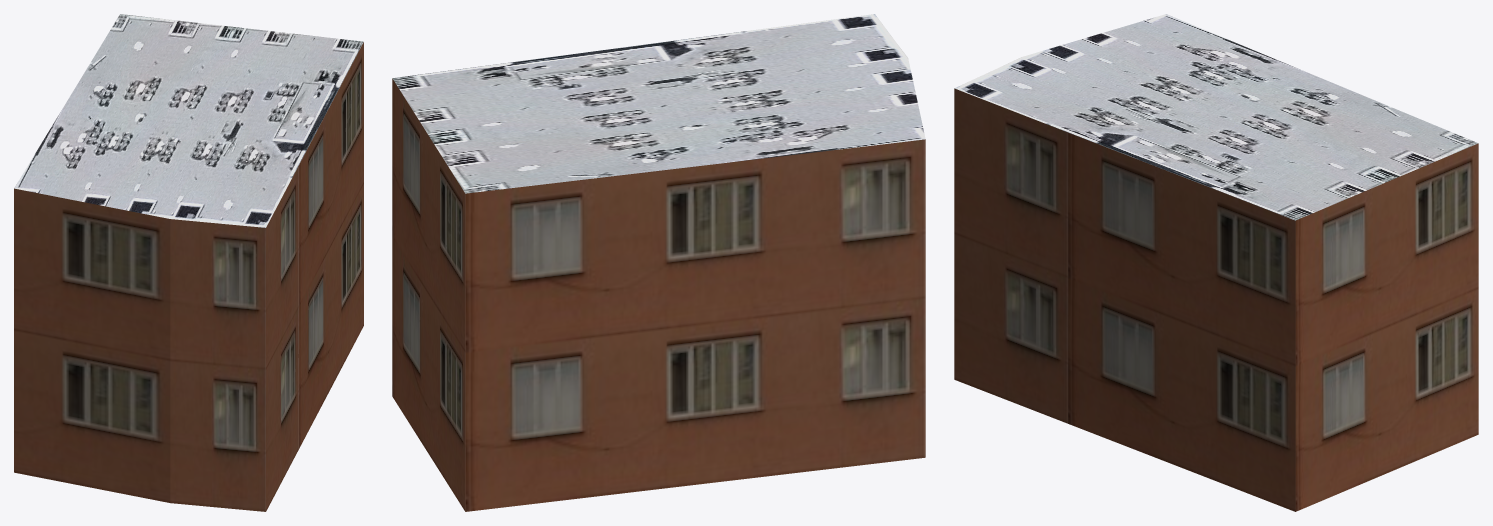
Rendered from ResTex__3351.fbx.
3 views of the same model, side by side, from view 1: azimuth 30°, elevation 25°; view 2: azimuth 150°, elevation 25°; view 3: azimuth 270°, elevation 25° (orthographic). The views are drawn at different scales.
Parts seen in each view (by area): view 1: CityEngineMaterial_20_m, CityEngineMaterial_4_m; view 2: CityEngineMaterial_20_m, CityEngineMaterial_4_m; view 3: CityEngineMaterial_20_m, CityEngineMaterial_4_m.
Boxes of the visible parts, x1,y1,x2,y2 form: CityEngineMaterial_20_m: [14, 42, 363, 511]; CityEngineMaterial_4_m: [14, 14, 363, 227]; CityEngineMaterial_20_m: [392, 78, 925, 511]; CityEngineMaterial_4_m: [392, 14, 925, 193]; CityEngineMaterial_20_m: [954, 88, 1478, 511]; CityEngineMaterial_4_m: [954, 14, 1478, 220].
Bounding box in the file's own units: 9.13 × 6 × 9.79.
2 materials, 2 textured.
